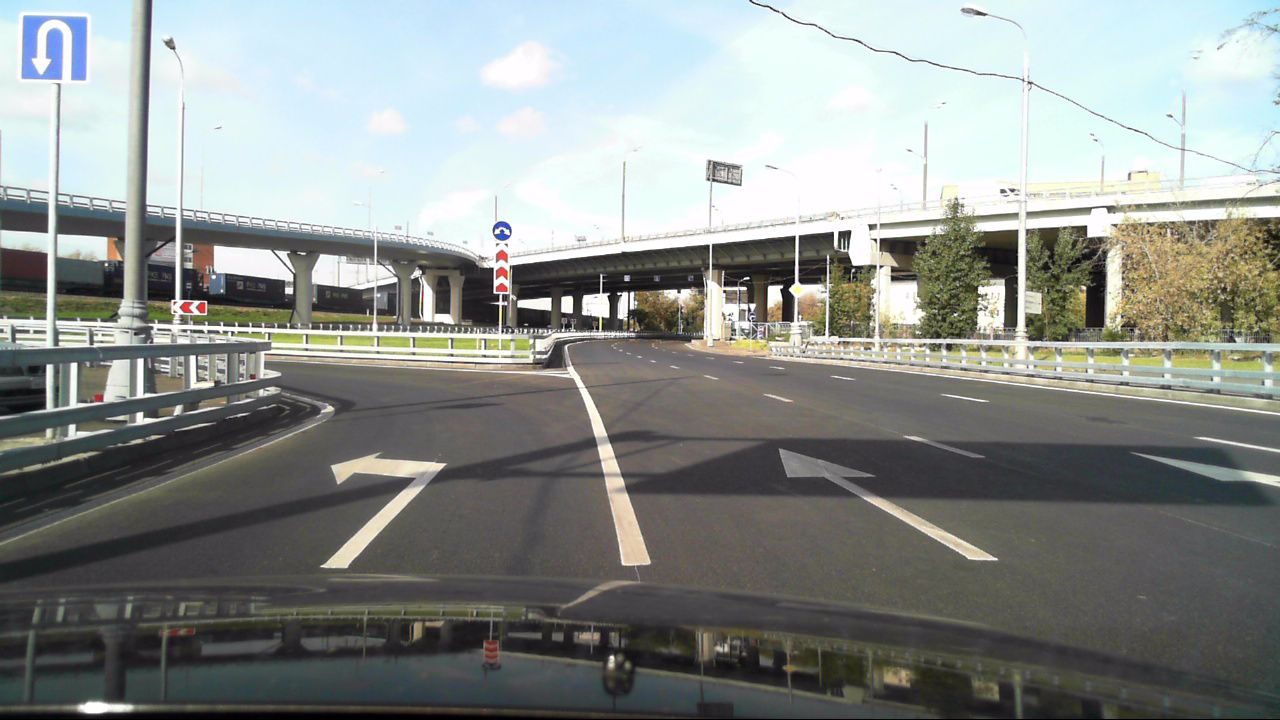U-turn: (21, 12, 88, 83)
